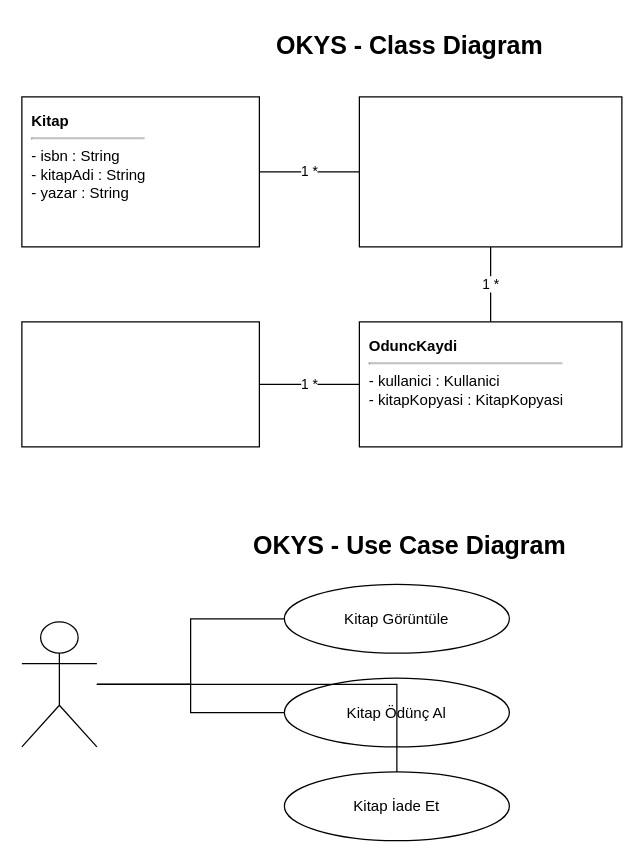
The diagram is 644 pixels wide and 863 high, and some of its shapes have lost their labels. The centre of each missing label's shape, as x and y in pixels:
KitapKopyasi - kopyaNo : int - kitap : Kitap - oduncteMi : boolean: the point at 490,171
Kullanici - kullaniciNo : int - adSoyad : String: the point at 140,384
Kullanıcı: the point at 59,684
